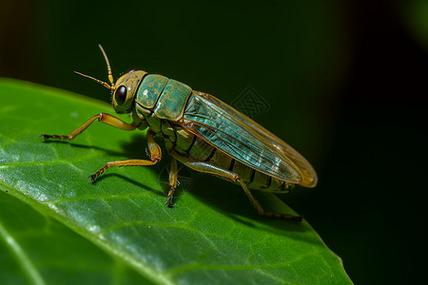Cicadellidae: (45, 46, 319, 202)
